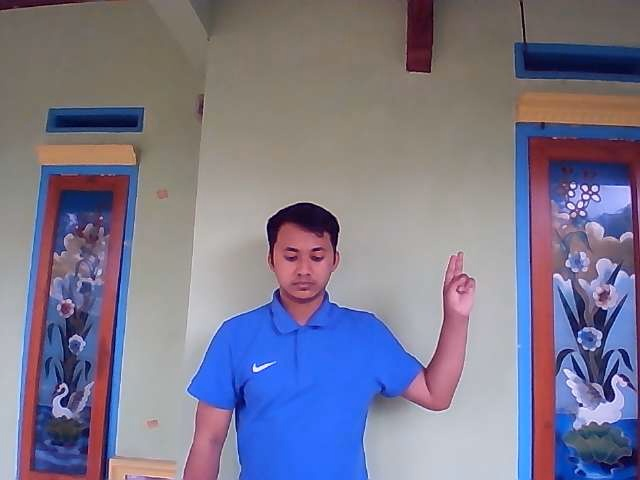U: (442, 251, 476, 318)
